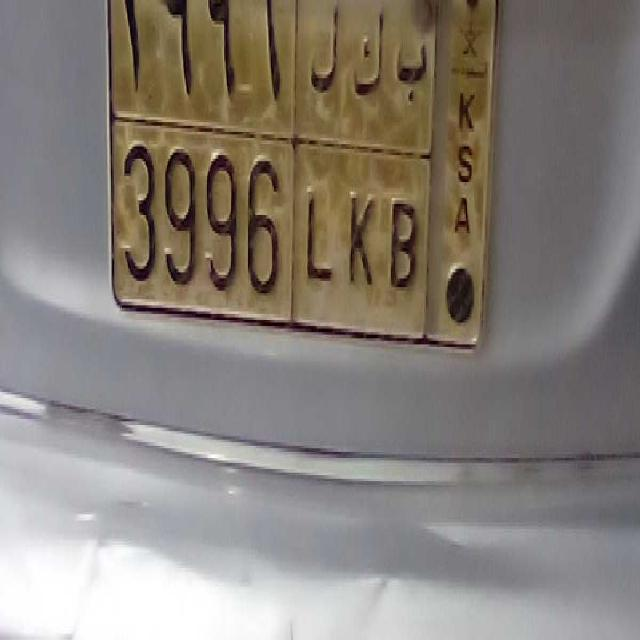license_plate: (110, 128, 427, 334)
